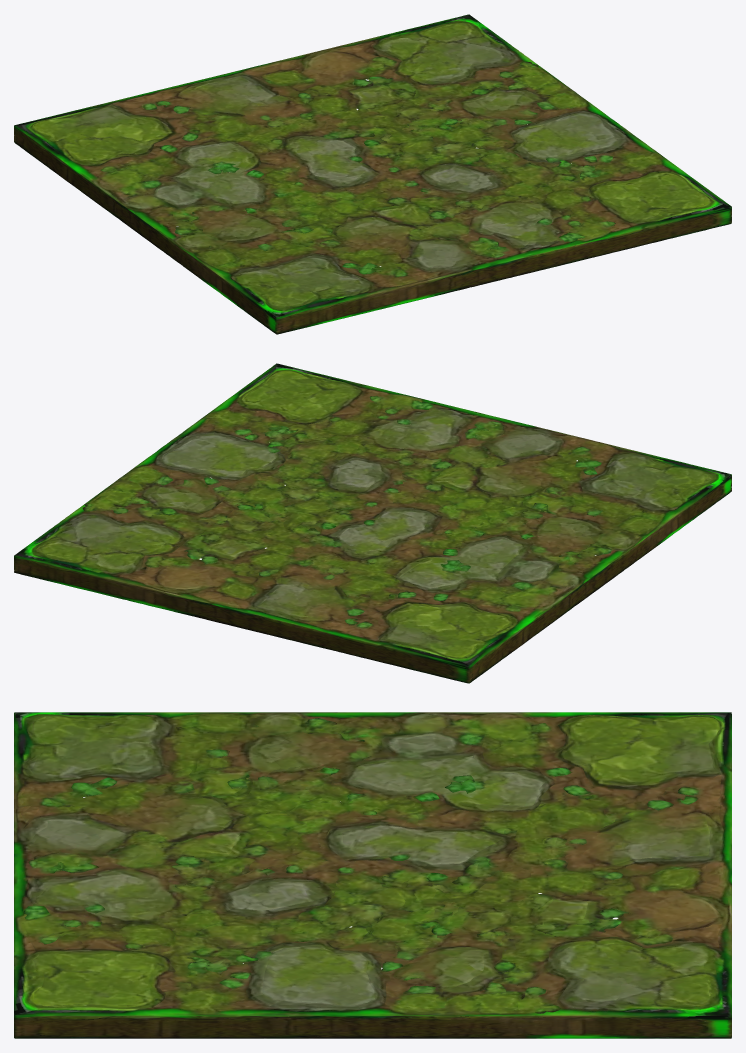
File: ForestFloor_MossStone_A_UnrealReady.glb
3 views of the same model, one above another, from view 1: azimuth 30°, elevation 25°; view 2: azimuth 150°, elevation 25°; view 3: azimuth 270°, elevation 25° (orthographic). The views are drawn at different scales.
Parts seen in each view (by area): view 1: ForestFloor_MossStone_A_UnrealReady; view 2: ForestFloor_MossStone_A_UnrealReady; view 3: ForestFloor_MossStone_A_UnrealReady.
Boxes of the visible parts, left/top/right/bottom form: ForestFloor_MossStone_A_UnrealReady: left=14, top=14, right=731, bottom=334; ForestFloor_MossStone_A_UnrealReady: left=14, top=363, right=731, bottom=683; ForestFloor_MossStone_A_UnrealReady: left=14, top=712, right=731, bottom=1038.
Size of the model in its own units: 6 by 0.24 by 6.
Materials: 1 (1 with a texture image).
